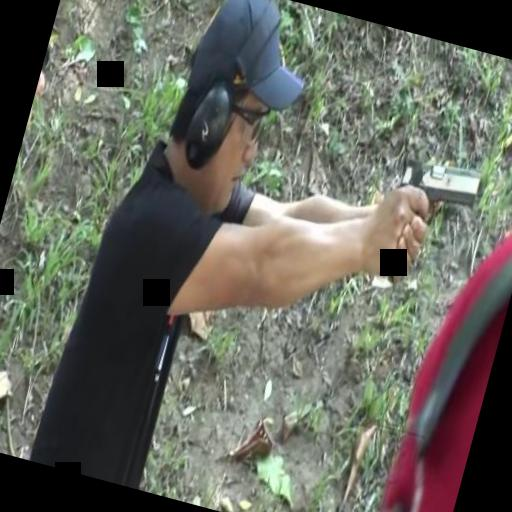Handgun: (370, 144, 490, 296)
